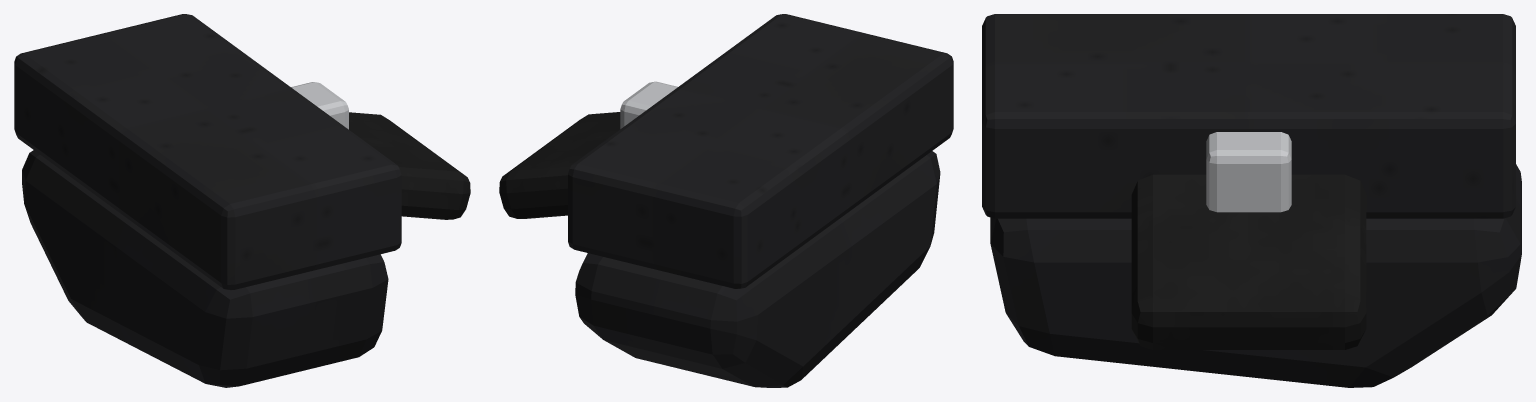
The model's file is grip_thumb.glb.
3 renders of one model, left to right at view 1: azimuth 30°, elevation 25°; view 2: azimuth 150°, elevation 25°; view 3: azimuth 270°, elevation 25°, orthographic. The views are drawn at different scales.
Parts seen in each view (by area): view 1: g_clamp, stub, rest, g_screw; view 2: g_clamp, stub, rest, g_screw; view 3: g_clamp, stub, rest, g_screw.
Part boxes in pixels (x1,y1,x2,y2): g_clamp: (14, 14, 401, 290); stub: (22, 150, 388, 387); rest: (349, 112, 470, 219); g_screw: (291, 82, 348, 129); g_clamp: (568, 14, 953, 288); stub: (575, 151, 940, 387); rest: (499, 112, 620, 218); g_screw: (620, 81, 677, 128); g_clamp: (982, 14, 1515, 218); stub: (990, 164, 1521, 387); rest: (1131, 174, 1366, 349); g_screw: (1206, 132, 1291, 212).
Size of the model in its own units: 0.0416 by 0.0295 by 0.0506.
4 materials, 3 textured.
